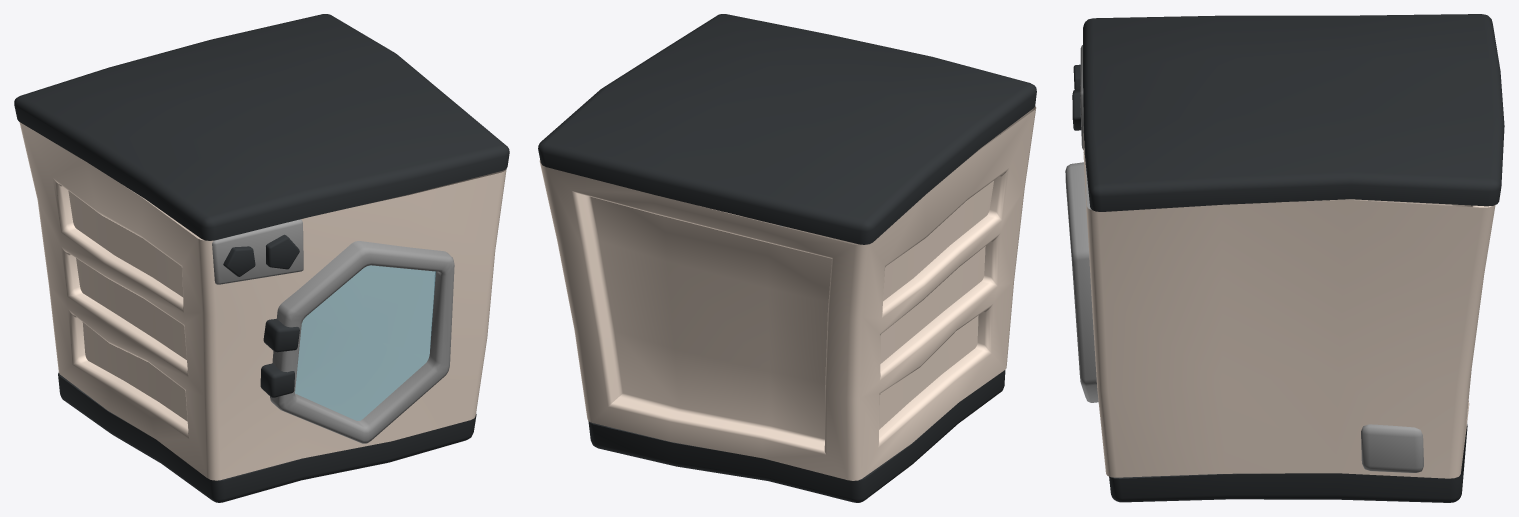
Rendered from props_dryingMachine.fbx.
3 views of the same model, side by side, from view 1: azimuth 30°, elevation 25°; view 2: azimuth 150°, elevation 25°; view 3: azimuth 270°, elevation 25° (orthographic). The views are drawn at different scales.
Visible parts, largest first — view 1: dryingMachine; view 2: dryingMachine; view 3: dryingMachine.
Part boxes in pixels (left/top/right/bottom): dryingMachine: left=14, top=14, right=509, bottom=502; dryingMachine: left=538, top=14, right=1036, bottom=502; dryingMachine: left=1065, top=14, right=1504, bottom=502.
Size of the model in its own units: 166 by 154 by 172.
